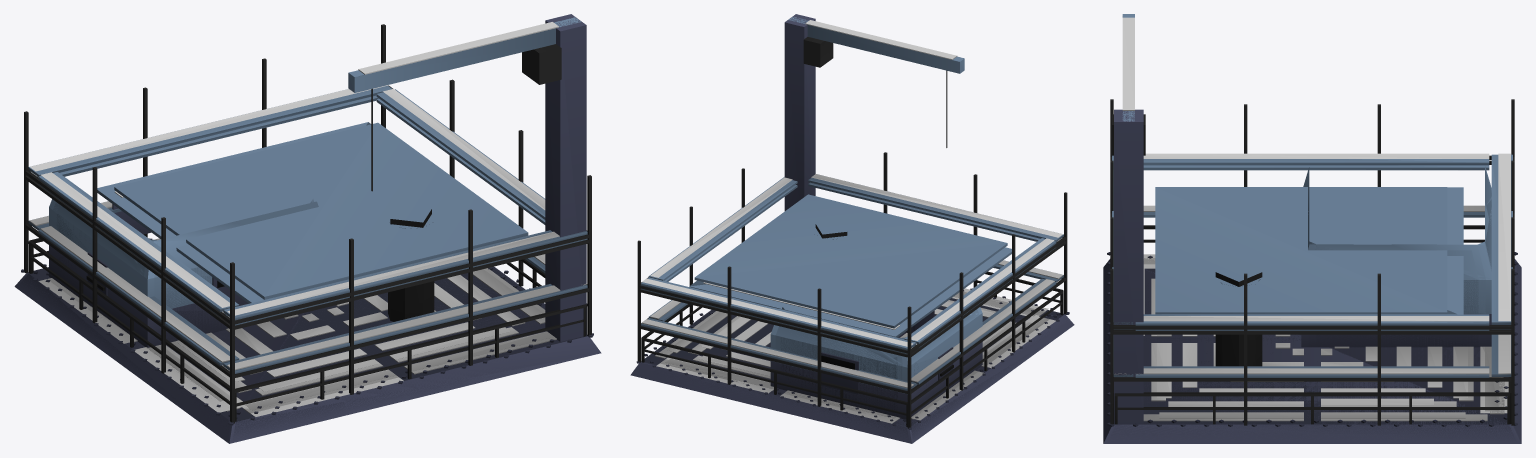
Rendered from veyran_radar_scaffolding.glb.
3 renders of one model, left to right at view 1: azimuth 30°, elevation 25°; view 2: azimuth 150°, elevation 25°; view 3: azimuth 270°, elevation 25°, orthographic. The views are drawn at different scales.
Visible parts, largest first — view 1: body (×3); view 2: body (×3); view 3: body (×3).
Boxes of the visible parts, bbox=[...] form: body (×3): bbox=[14, 14, 601, 443]; body (×3): bbox=[630, 14, 1074, 443]; body (×3): bbox=[1103, 14, 1521, 443].
Bounding box in the file's own units: 7.4 × 6.22 × 7.4.
